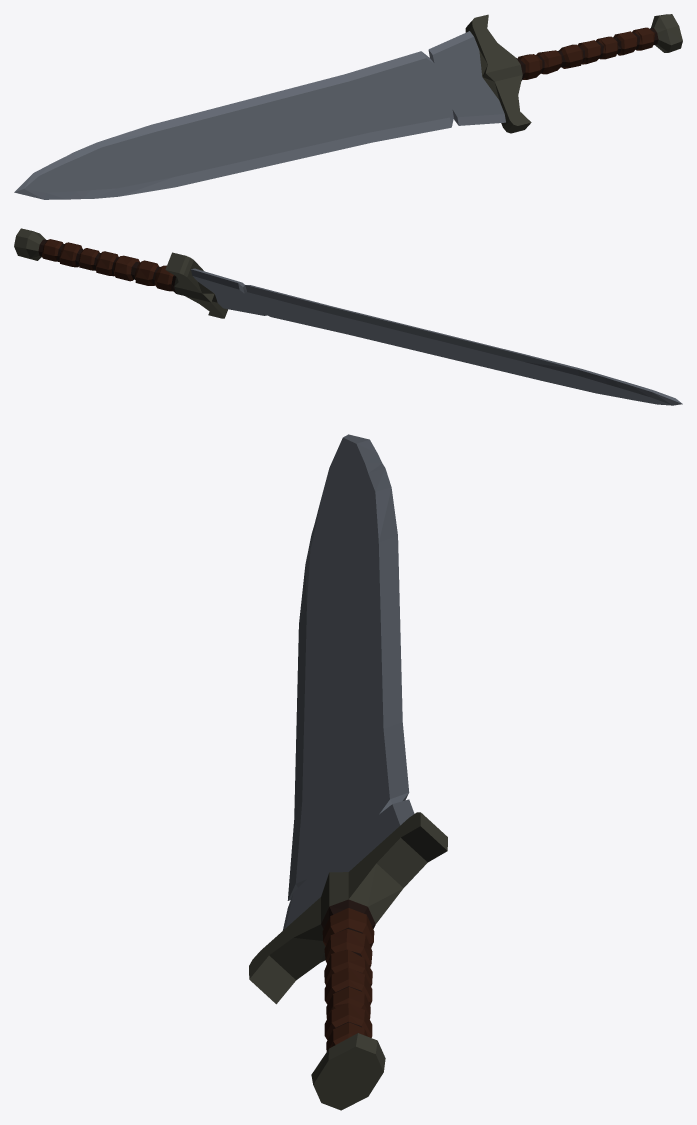
The model's file is Sword_big_Cylinder.obj.
3 views of the same model, one above another, from view 1: azimuth 30°, elevation 25°; view 2: azimuth 150°, elevation 25°; view 3: azimuth 270°, elevation 25° (orthographic). The views are drawn at different scales.
Parts seen in each view (by area): view 1: Sword_big_Cylinder.009; view 2: Sword_big_Cylinder.009; view 3: Sword_big_Cylinder.009.
Part boxes in pixels (<box>): Sword_big_Cylinder.009: <box>14,14,682,199</box>; Sword_big_Cylinder.009: <box>14,228,682,405</box>; Sword_big_Cylinder.009: <box>249,434,447,1110</box>.
Bounding box in the file's own units: 1.07 × 0.1379 × 0.1391.
